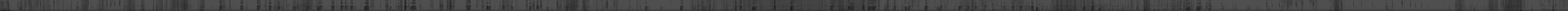Moan: (257, 0, 259, 11), (862, 0, 864, 11)
